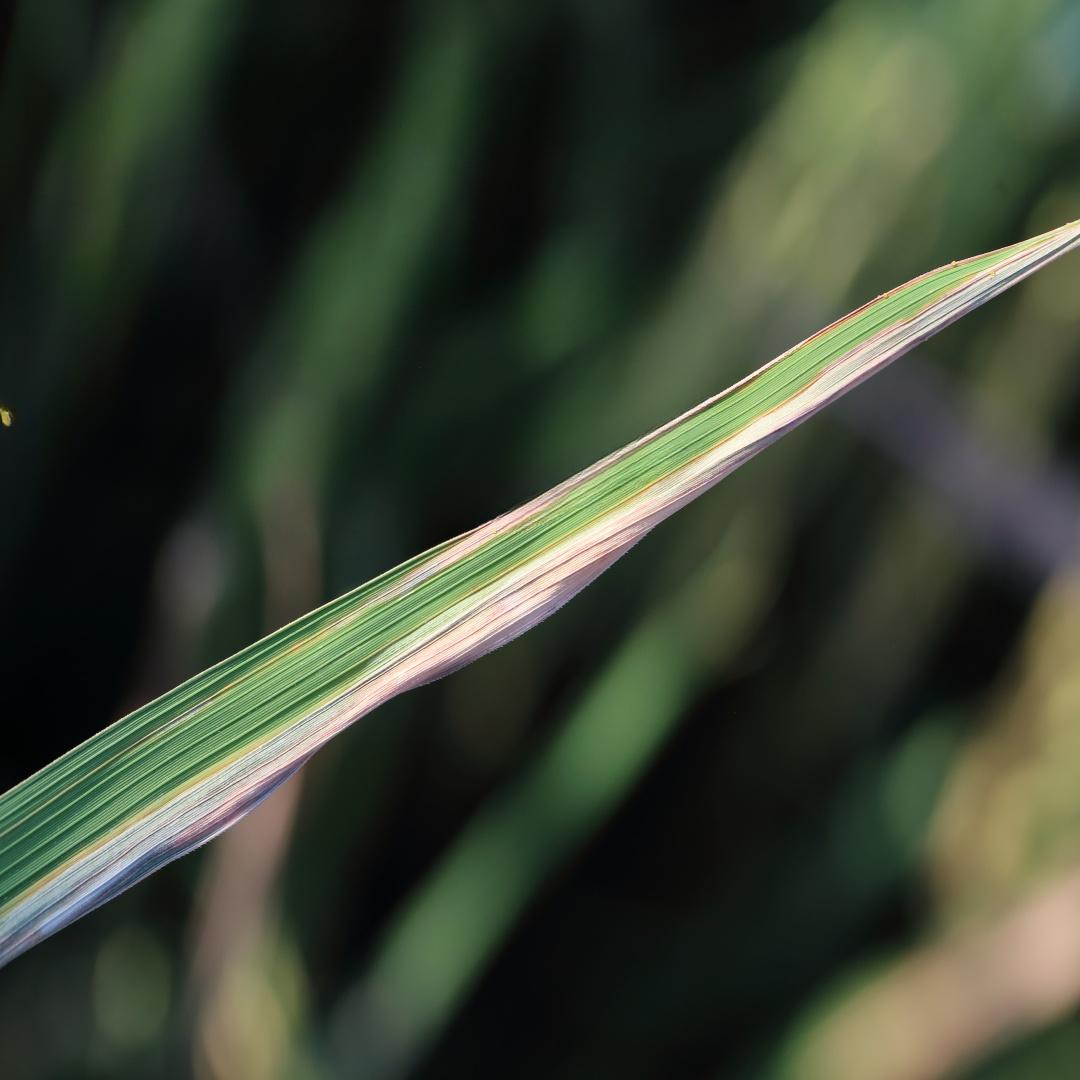BLB: (0, 225, 1079, 969), (321, 220, 1079, 634)
LEAF: (0, 219, 1079, 968)
